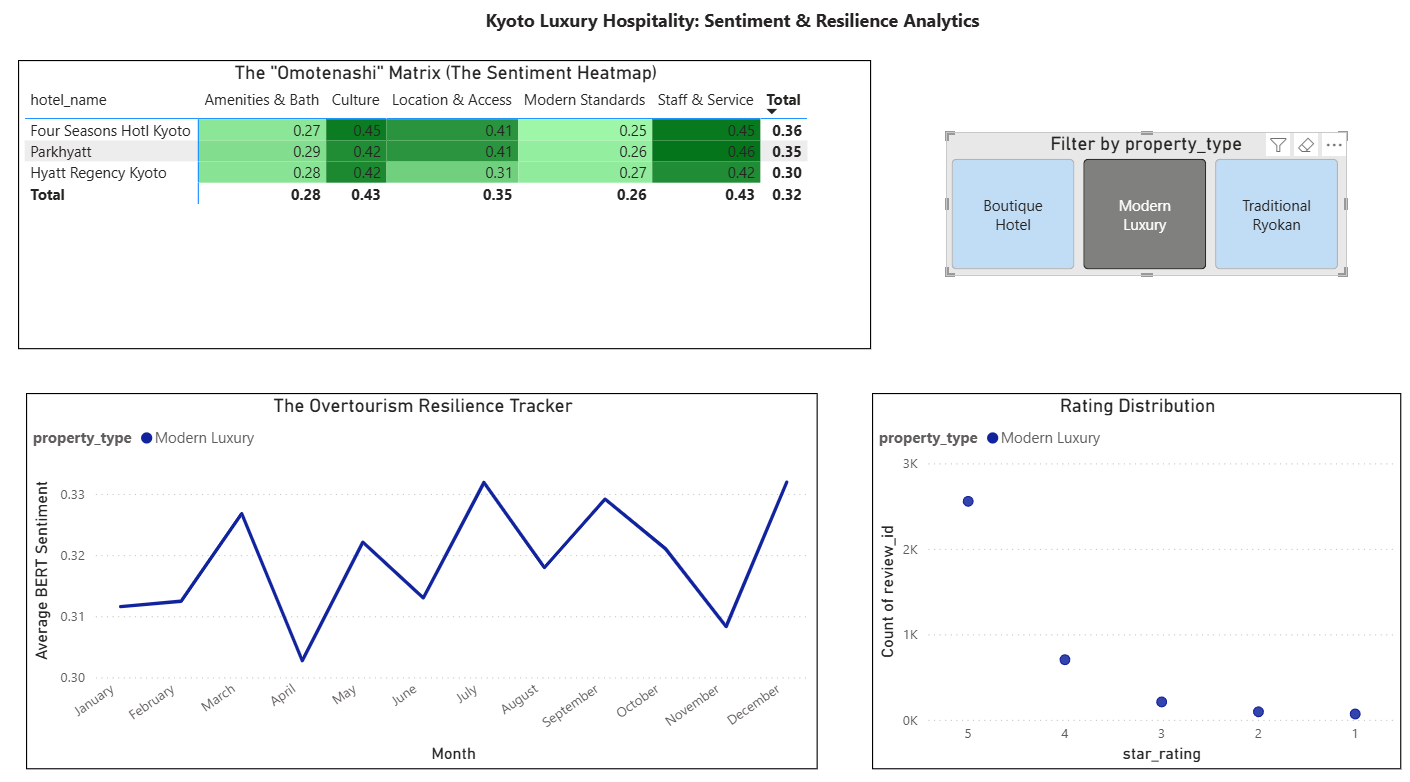

This screenshot's page, from the dashboard's own definition file:
{"tool":"powerbi","page":{"name":"Page 1","canvas":[1280,720],"ordinal":0},"visuals":[{"type":"pivotTable","title":"The \"Omotenashi\" Matrix (The Sentiment Heatmap)","fields":{"Rows":["public dim_hotels.hotel_name"],"Columns":["public dim_topics.topic_name"],"Values":["public fact_topic_sentiment.Average BERT Sentiment"]},"box":[30.8,61.5,763.5,258.8],"z":0},{"type":"lineChart","title":"The Overtourism Resilience Tracker","fields":{"Category":["public fact_reviews.review_date.Variation.Date Hierarchy.Month"],"Y":["public fact_topic_sentiment.Average BERT Sentiment"],"Series":["public dim_hotels.property_type"]},"box":[37.8,359.6,708.9,337],"z":1000},{"type":"scatterChart","title":"Rating Distribution","fields":{"X":["public fact_reviews.star_rating"],"Y":["public fact_reviews.review_id"],"Series":["public dim_hotels.property_type"]},"box":[794.8,359.6,473.9,337],"z":2000},{"type":"textbox","box":[444.3,9.5,478.3,43.5],"z":3000},{"type":"advancedSlicerVisual","title":"Filter by property_type","fields":{"Values":["public dim_hotels.property_type"]},"box":[861.8,126.5,358.7,128.4],"z":3001}]}

Visuals, with their boxes in screenshot pixels (x1, y1, x2, y2), scaled from the page's 1280x720 canvas onto the 1410x782 screenshot:
"The "Omotenashi" Matrix (The Sentiment Heatmap)" pivotTable: (34, 67, 875, 348)
"The Overtourism Resilience Tracker" lineChart: (42, 391, 823, 757)
"Rating Distribution" scatterChart: (876, 391, 1398, 757)
textbox: (489, 10, 1016, 58)
"Filter by property_type" advancedSlicerVisual: (949, 137, 1344, 277)
